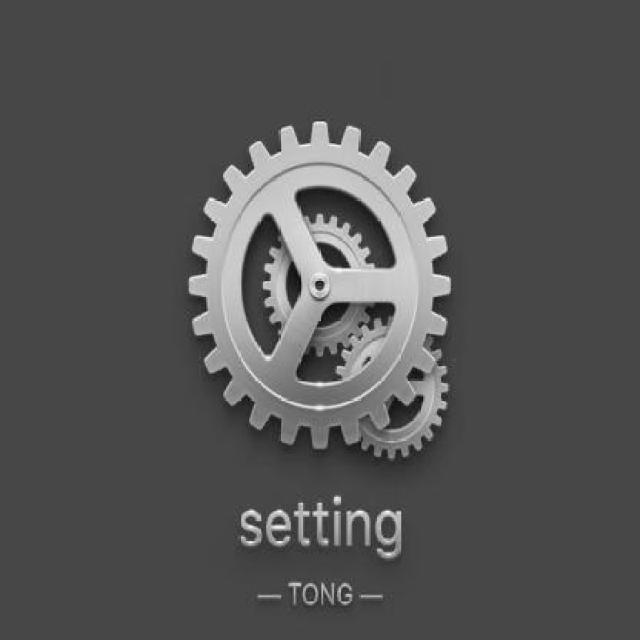Gear: (187, 118, 453, 453), (260, 210, 381, 360), (334, 314, 451, 462)
